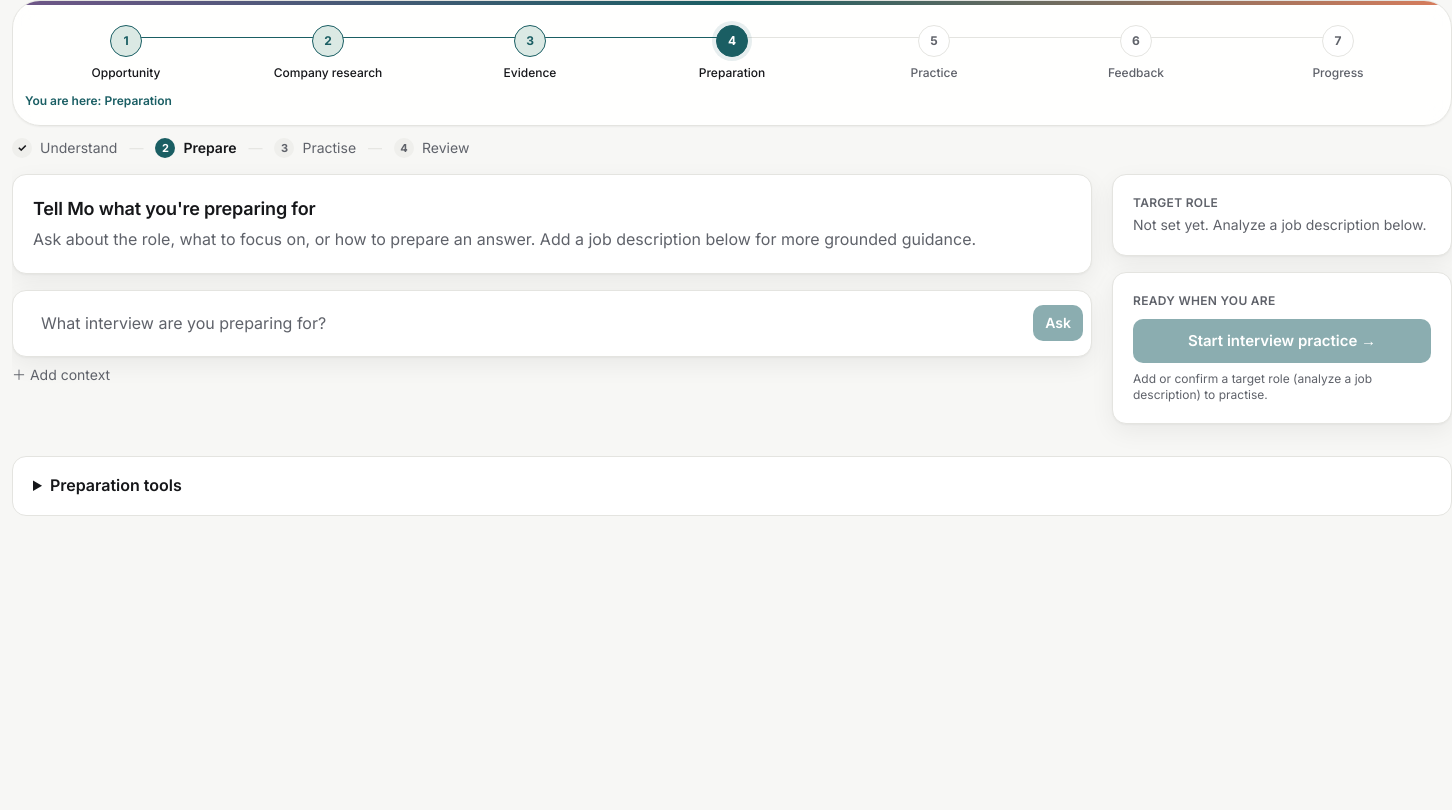
Test: Prepare workspace › shows no fabricated readiness score and no chain-of-thought
The image size is (1452, 810).
Type "hi" into the field named "Ask the coach" at point(526, 323), box [27,299,1025,348]
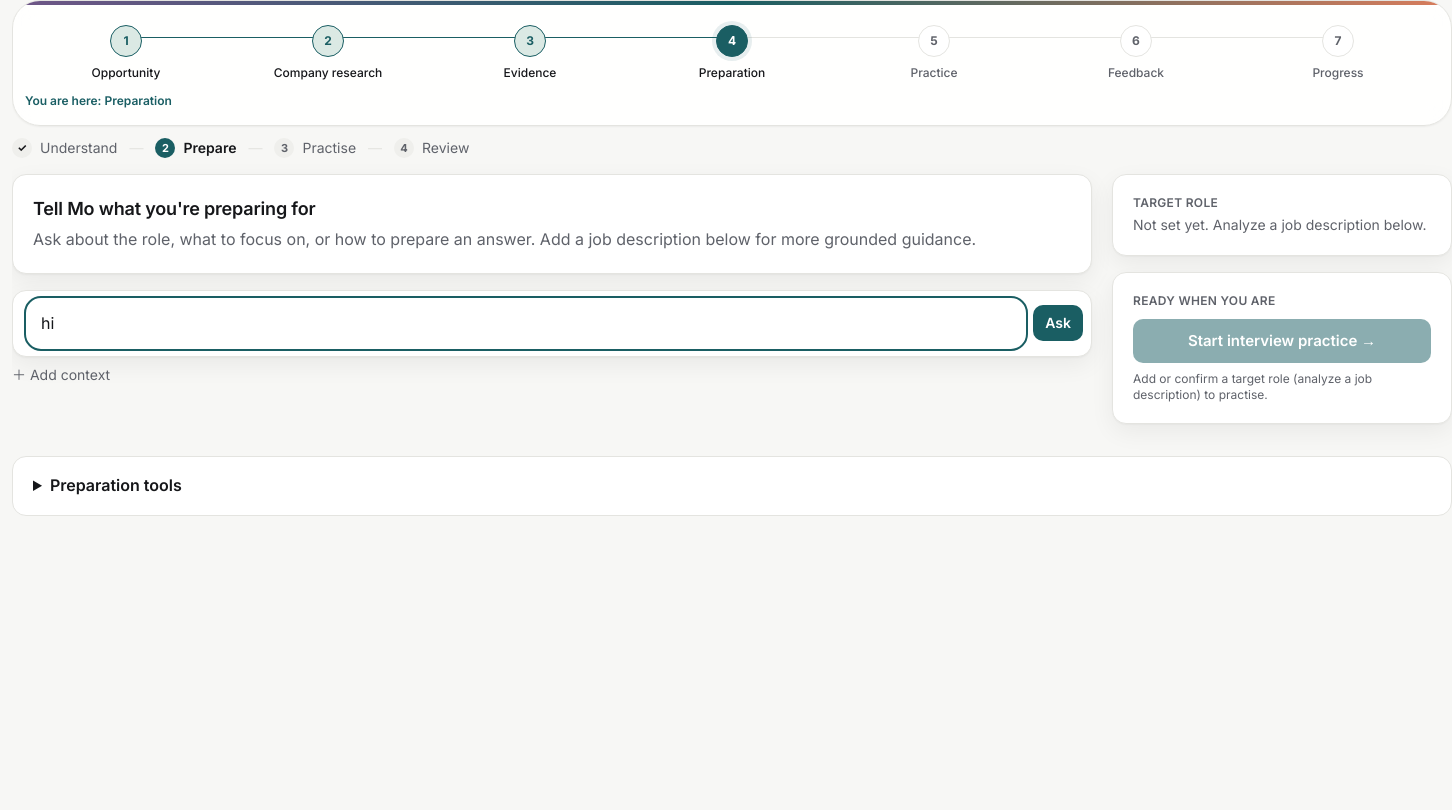
Click the button "Ask" at point(1058, 323), box [1033,305,1083,341]
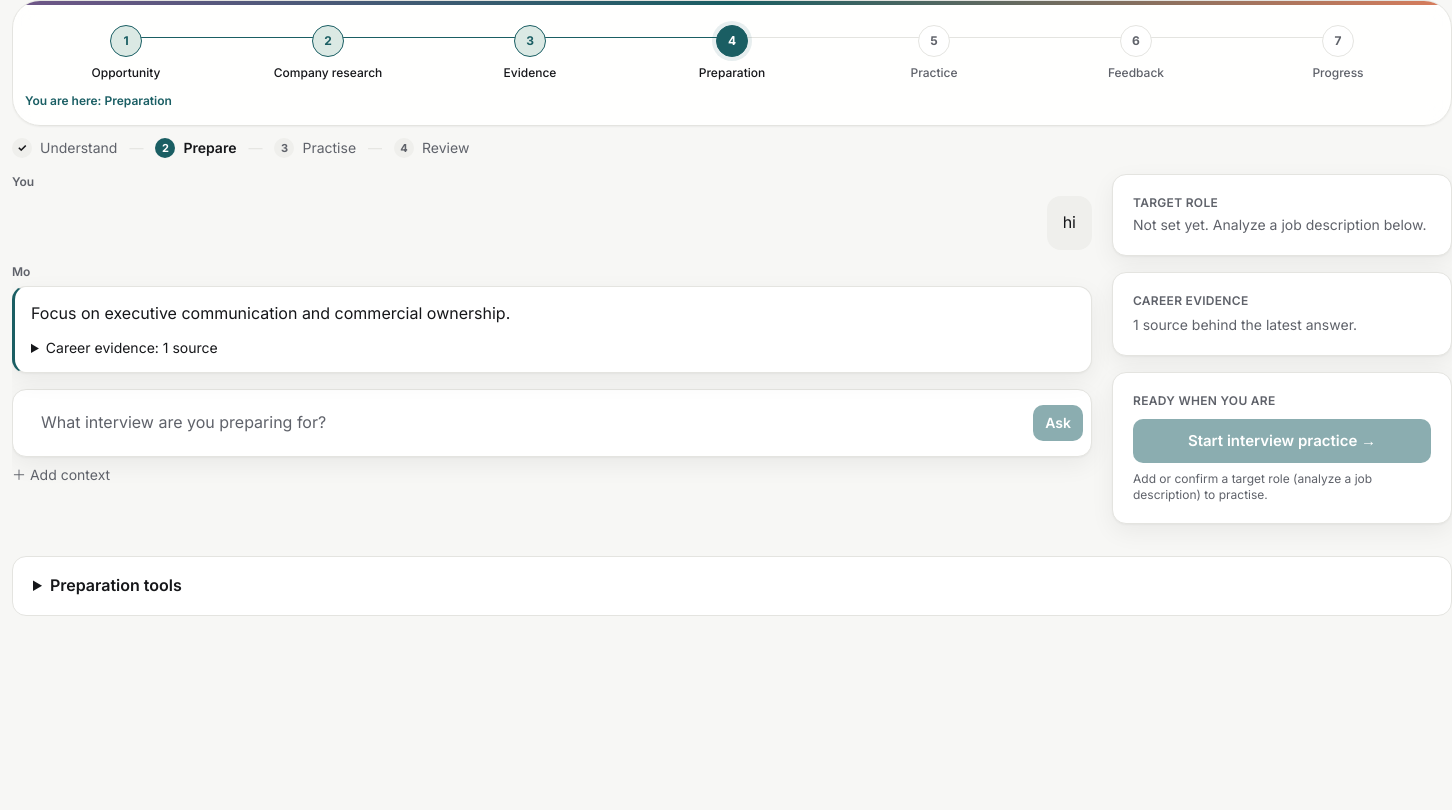
Result: the text "Focus on executive communication and commercial ownership." is shown at [31,303,510,323]
